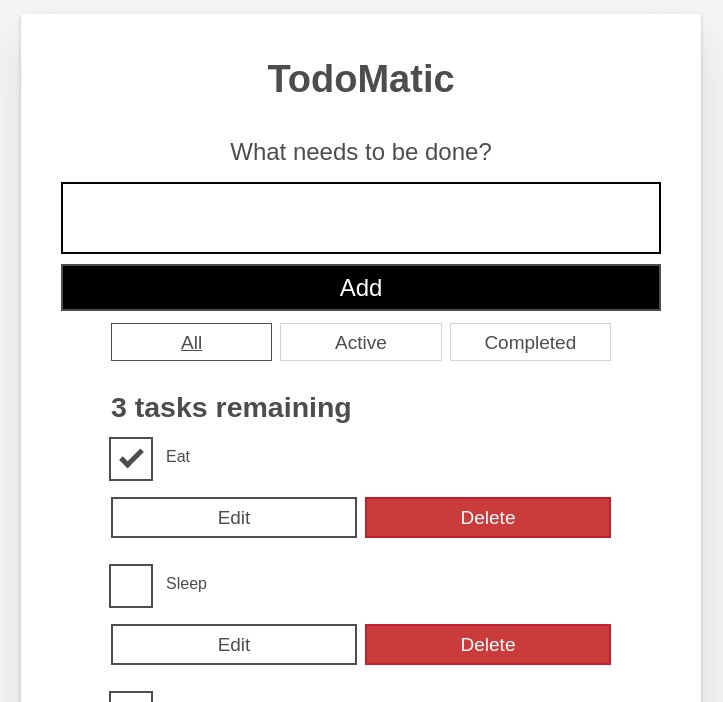
Test: Editing a existing task › Display the edited task
The image size is (723, 702).
Click the button with test id "todo-0edit" at (234, 518), box [111, 497, 357, 538]
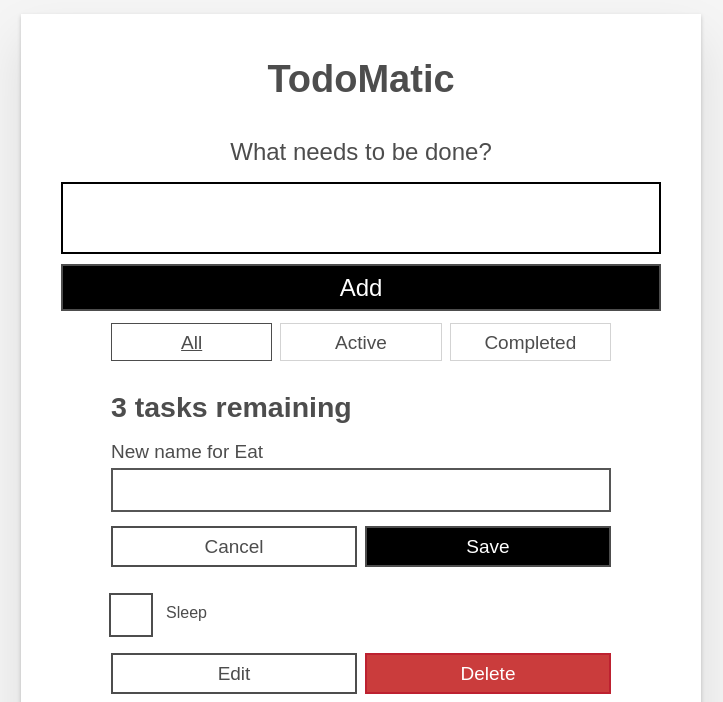
Type "New Task Edit" into the field with test id "todo-0editText" at (361, 490), box [111, 468, 611, 512]
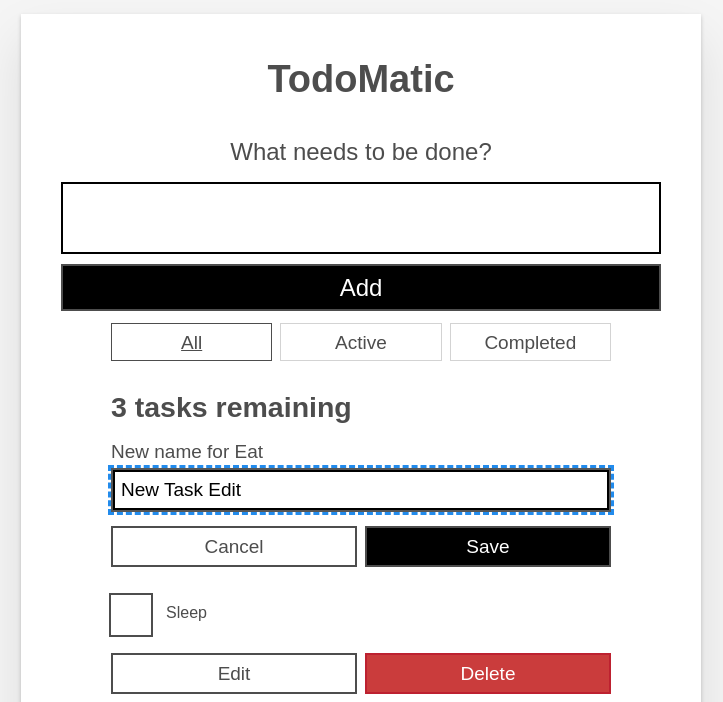
Click the button with test id "todo-0save" at (488, 547), box [365, 526, 611, 567]
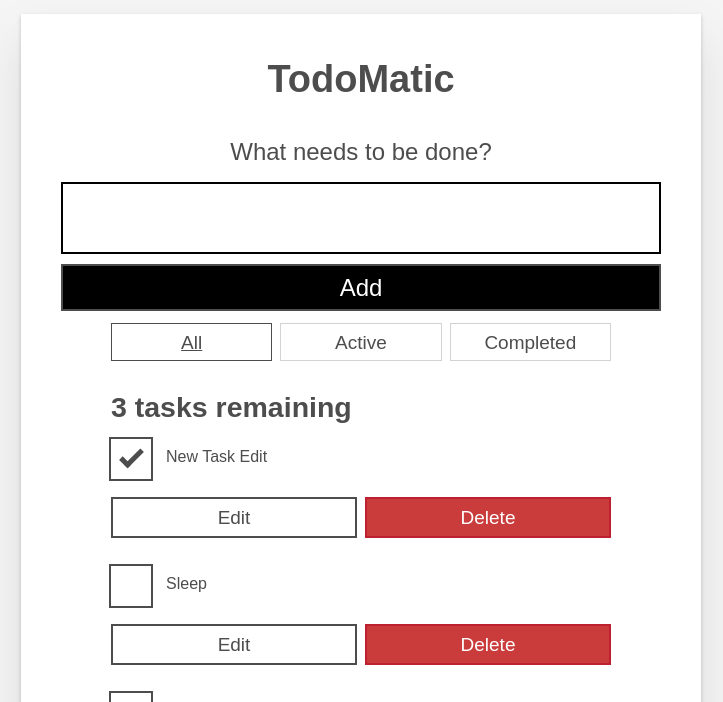
Result: the checkbox "New Task Edit" is shown at [166, 448, 267, 465]
